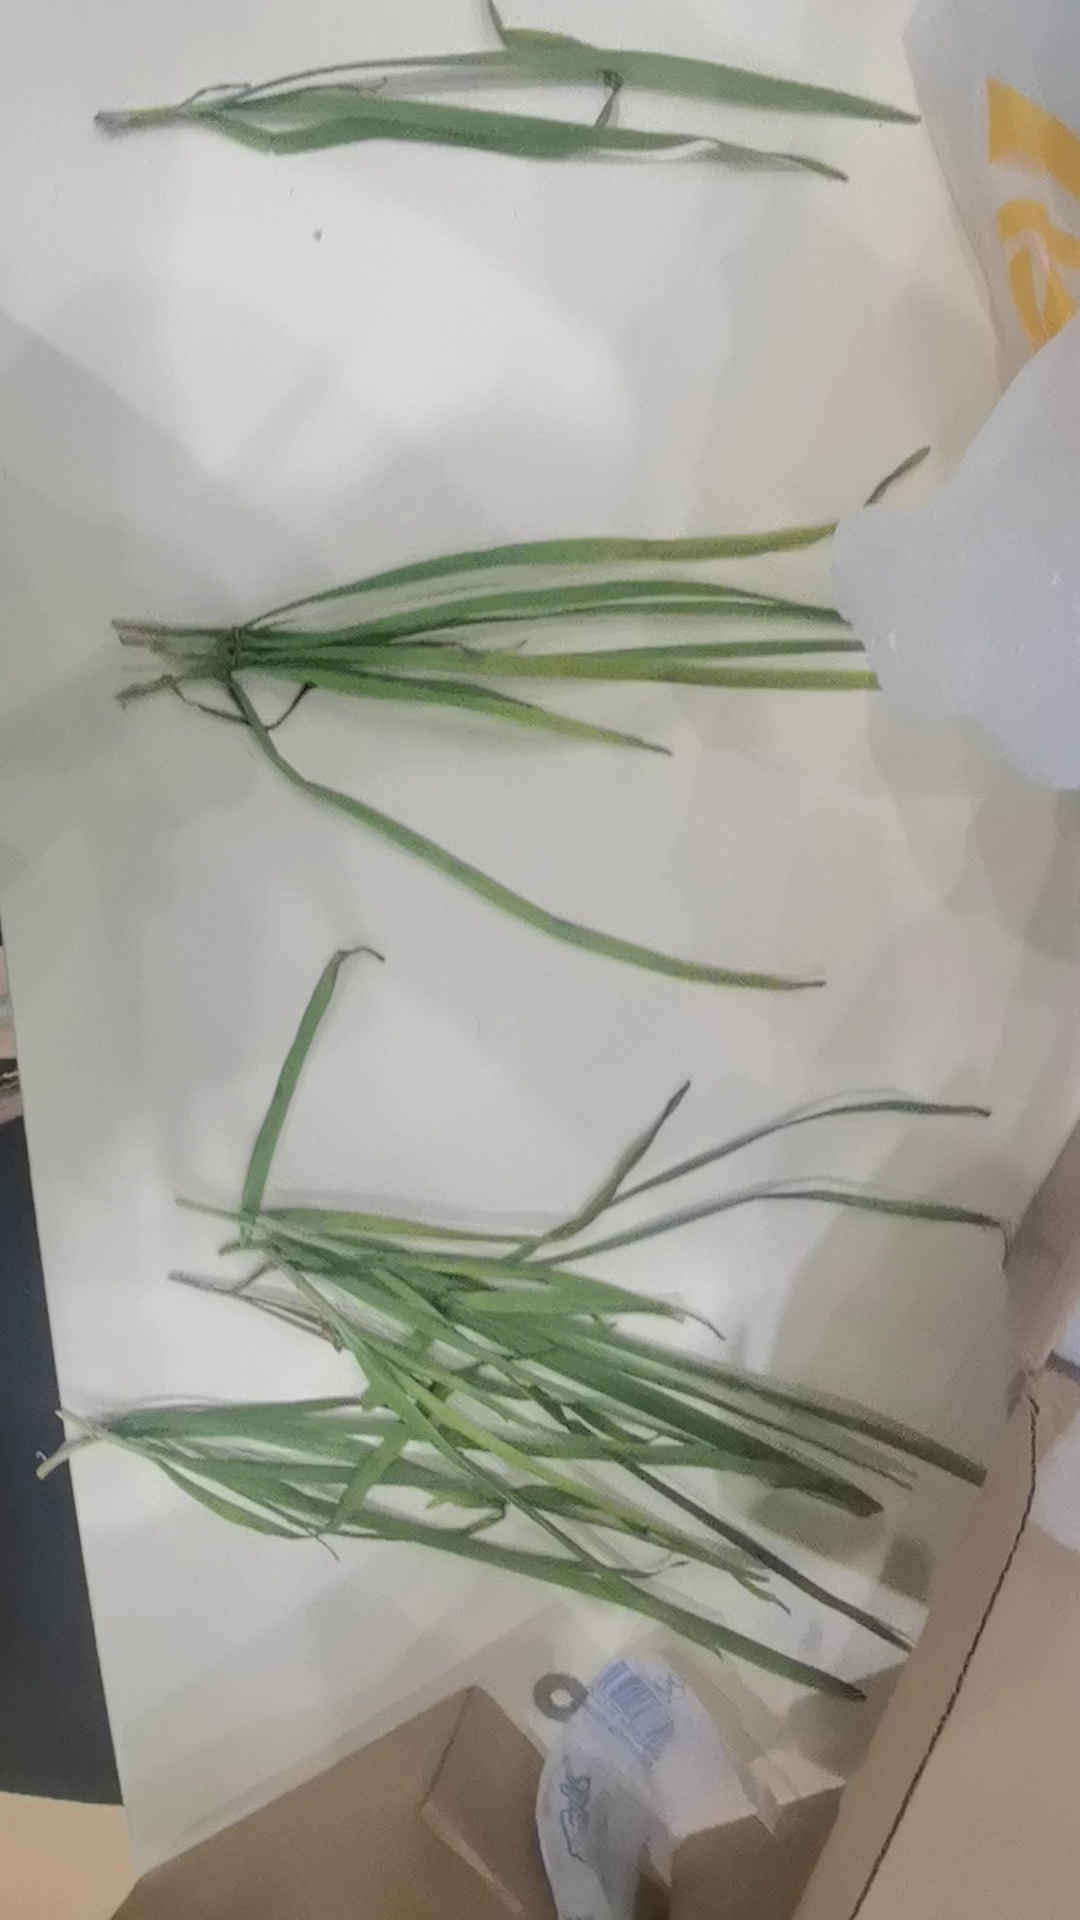chives: (105, 1095, 1043, 1644), (57, 472, 998, 994), (83, 41, 918, 198)
